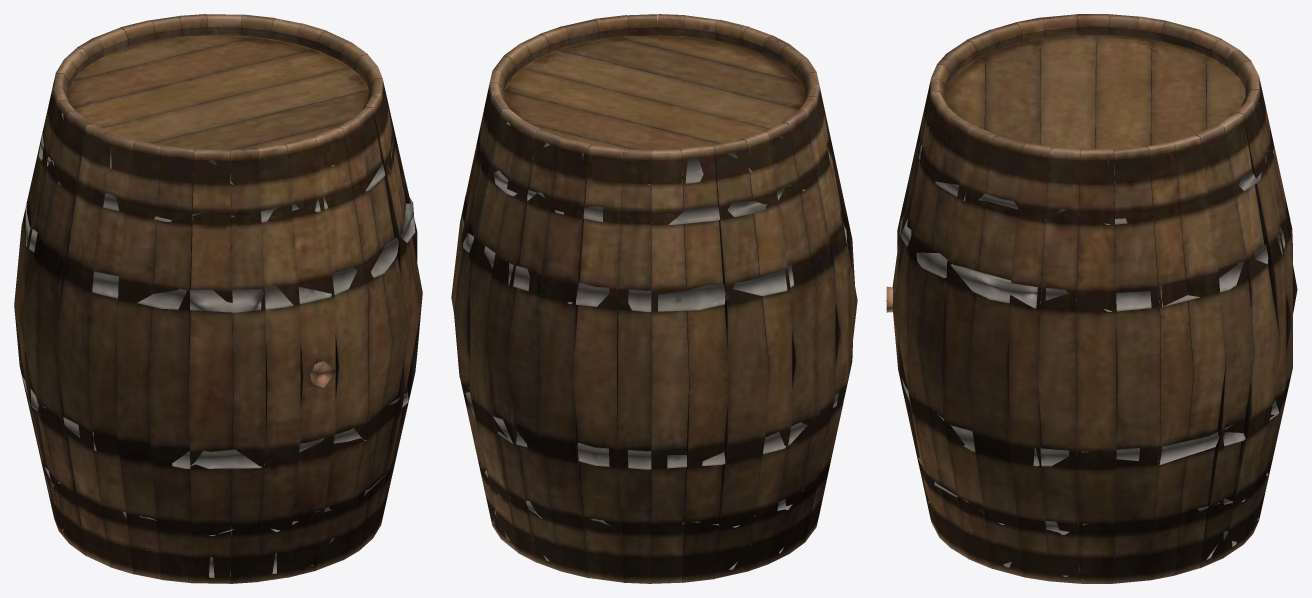
File: wine_barrel_01.glb
3 views of the same model, side by side, from view 1: azimuth 30°, elevation 25°; view 2: azimuth 150°, elevation 25°; view 3: azimuth 270°, elevation 25° (orthographic).
Parts seen in each view (by area): view 1: wine_barrel_01_Lid; view 2: wine_barrel_01_Lid; view 3: wine_barrel_01_Lid.
Part boxes in pixels (x1,y1,x2,y2): wine_barrel_01_Lid: [14, 14, 422, 583]; wine_barrel_01_Lid: [451, 14, 857, 583]; wine_barrel_01_Lid: [886, 14, 1297, 583].
Bounding box in the file's own units: 0.7391 × 0.8695 × 0.7507.
Materials: 1 (1 with a texture image).
